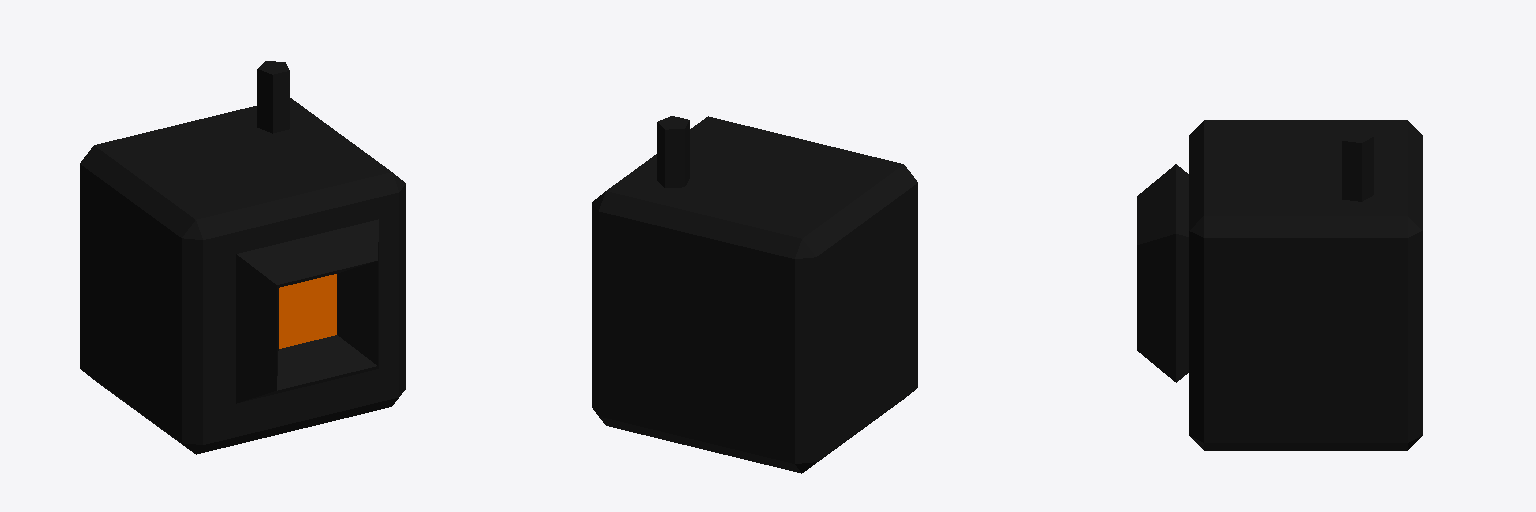
File: furnace1.obj
The picture shows the model from 3 angles: view 1: azimuth 30°, elevation 25°; view 2: azimuth 150°, elevation 25°; view 3: azimuth 270°, elevation 25°; orthographic projection.
Visible parts, largest first — view 1: Object.2, Object.1, Object.4, Object.3; view 2: Object.2, Object.3; view 3: Object.2, Object.1, Object.3.
Part boxes in pixels (x1,y1,x2,y2): Object.2: (80, 98, 405, 454); Object.1: (236, 219, 378, 403); Object.4: (279, 274, 336, 348); Object.3: (257, 61, 289, 133); Object.2: (592, 116, 917, 473); Object.3: (657, 116, 689, 187); Object.2: (1189, 120, 1422, 450); Object.1: (1137, 164, 1188, 382); Object.3: (1342, 130, 1373, 201).
Size of the model in its own units: 1 by 1.25 by 1.1.